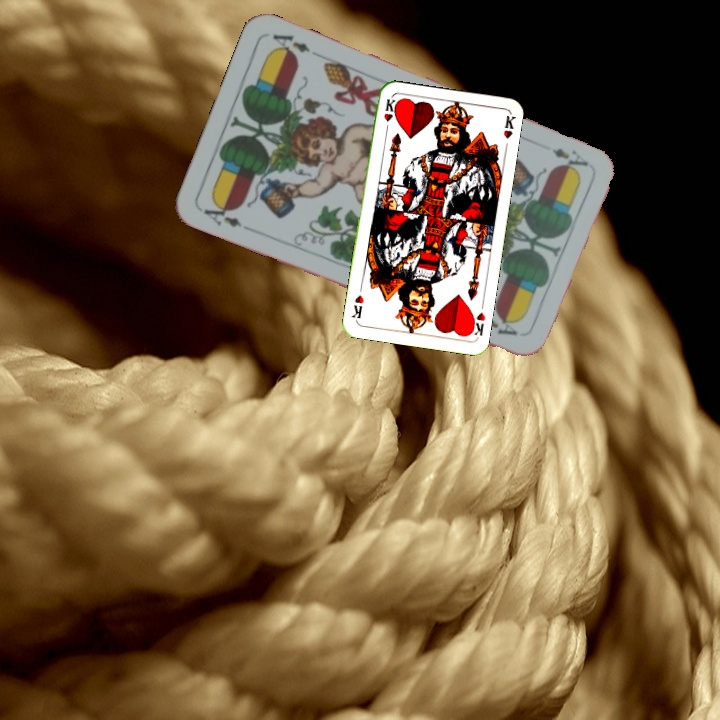EA: (199, 197, 244, 230), (548, 143, 591, 169)
HK: (380, 95, 398, 135), (465, 308, 488, 338)
